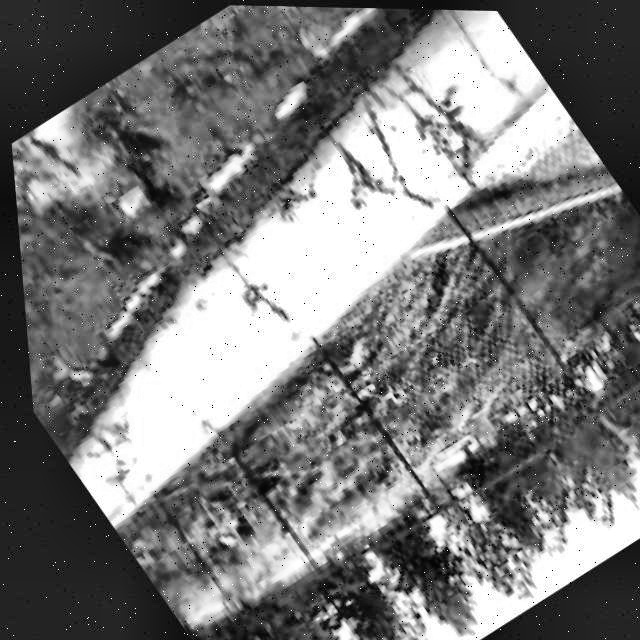Fire: (6, 97, 135, 240)
